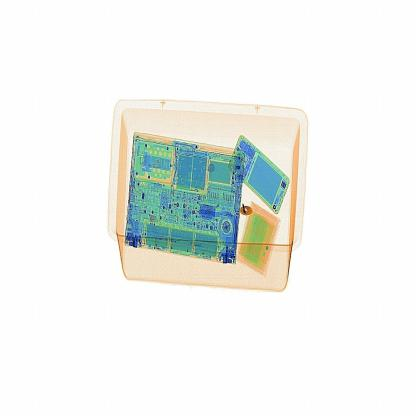wrench: (234, 193, 257, 223)
